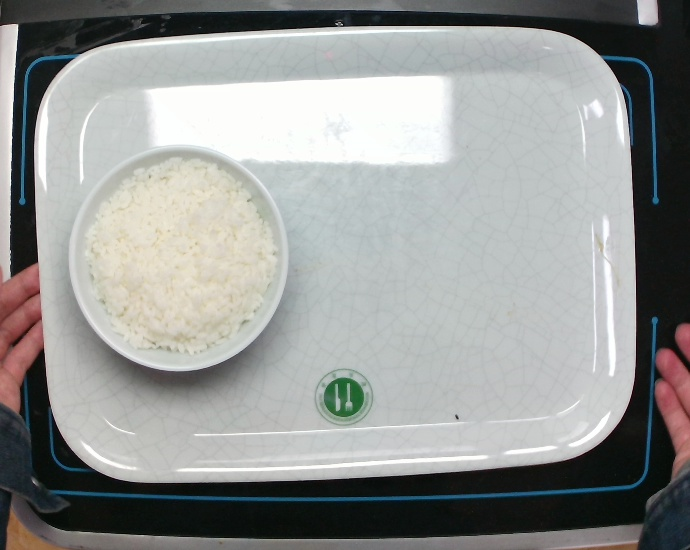JYsf-Fan_Wan: (66, 142, 290, 374)
